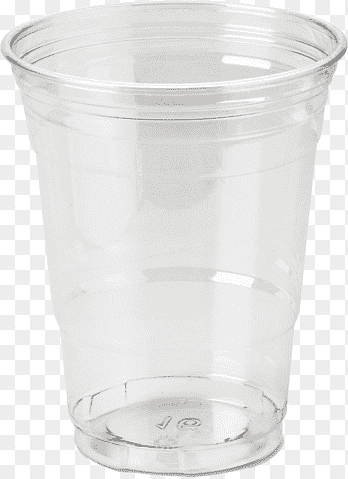plastic_glass: (1, 1, 348, 479)
